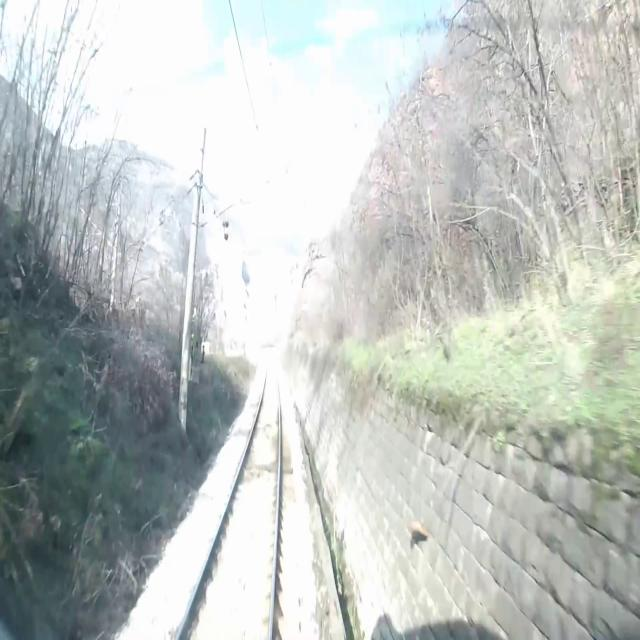rail-track: (180, 376, 277, 639)
